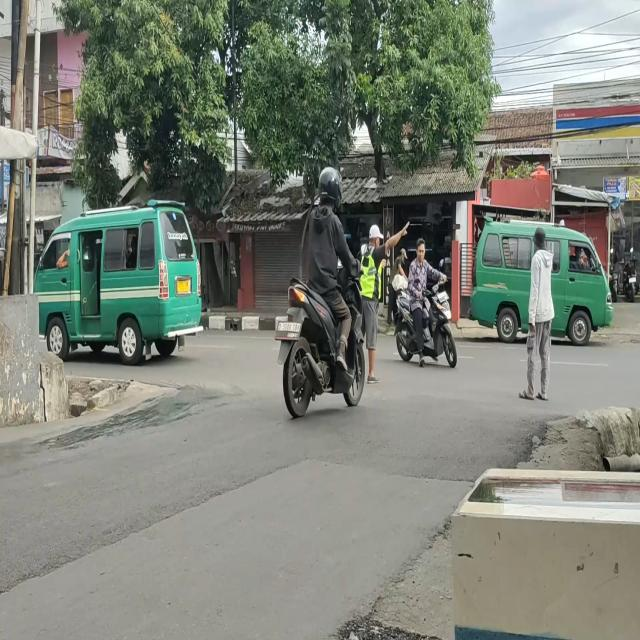helmet: (316, 161, 343, 207)
no-helmet: (416, 236, 426, 260)
